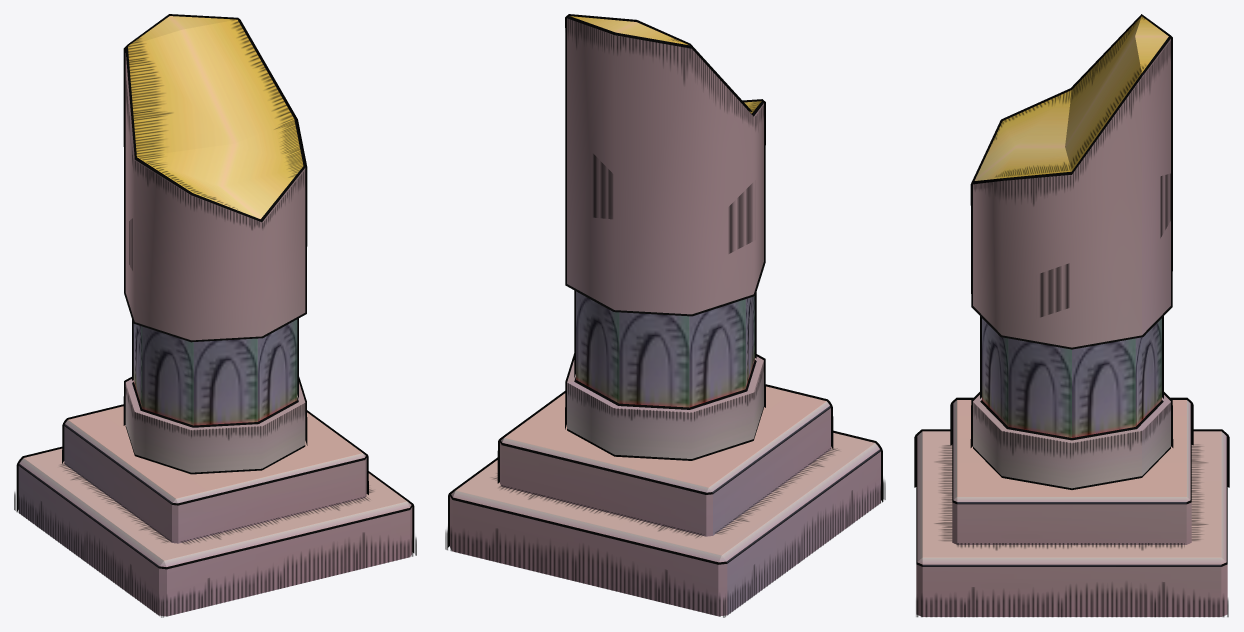
The model's file is Column_SmallBroken_01.glb.
3 renders of one model, left to right at view 1: azimuth 30°, elevation 25°; view 2: azimuth 150°, elevation 25°; view 3: azimuth 270°, elevation 25°, orthographic. The views are drawn at different scales.
Visible parts, largest first — view 1: Column_SmallBroken_01; view 2: Column_SmallBroken_01; view 3: Column_SmallBroken_01.
Part boxes in pixels (box(x1,y1,x2,y2)): Column_SmallBroken_01: box(14, 14, 416, 617); Column_SmallBroken_01: box(445, 14, 885, 617); Column_SmallBroken_01: box(914, 14, 1229, 617).
Bounding box in the file's own units: 1.01 × 1.83 × 1.01.
Materials: 3 (2 with a texture image).
